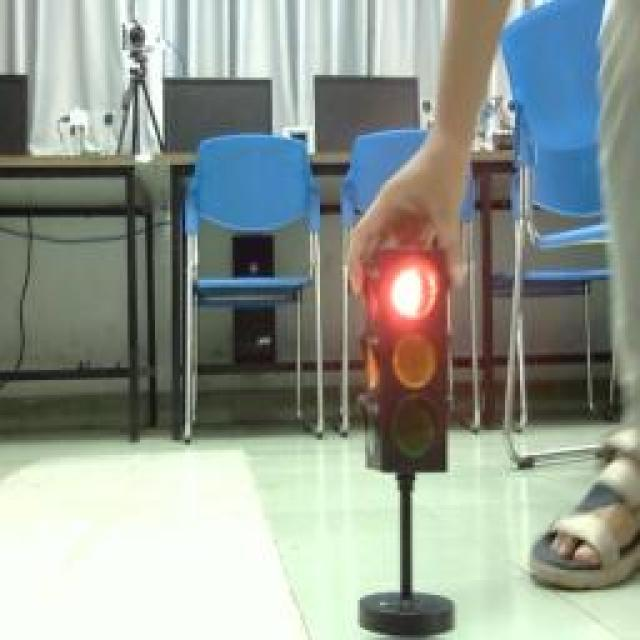-: (389, 256, 444, 324)
